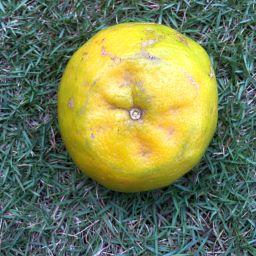Unripe: (57, 26, 215, 185)
